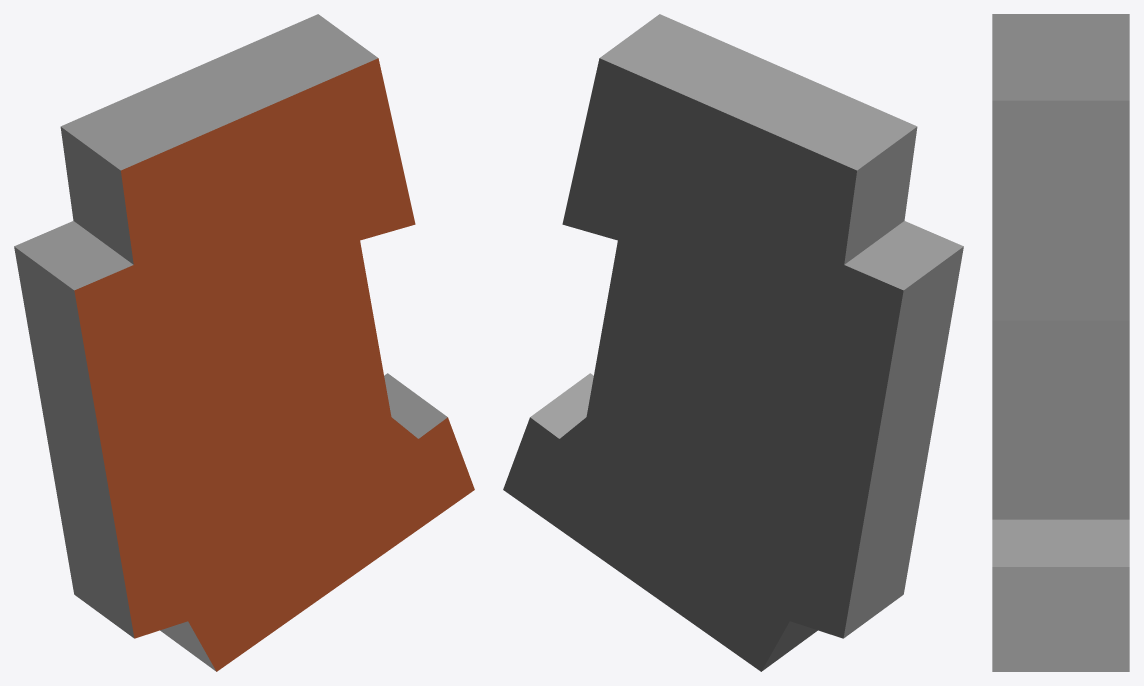
The model's file is construction_6292_assumed_A_Casa_h6m.obj.
The picture shows the model from 3 angles, left to right: view 1: azimuth 30°, elevation 25°; view 2: azimuth 150°, elevation 25°; view 3: azimuth 270°, elevation 25°; orthographic projection. The views are drawn at different scales.
Parts seen in each view (by area): view 1: construction_6292_assumed_A_Casa; view 2: construction_6292_assumed_A_Casa; view 3: construction_6292_assumed_A_Casa.
Boxes of the visible parts, x1,y1,x2,y2 form: construction_6292_assumed_A_Casa: (14, 14, 474, 671); construction_6292_assumed_A_Casa: (503, 14, 963, 671); construction_6292_assumed_A_Casa: (992, 14, 1129, 671).
Bounding box in the file's own units: 23.02 × 31.53 × 6.
